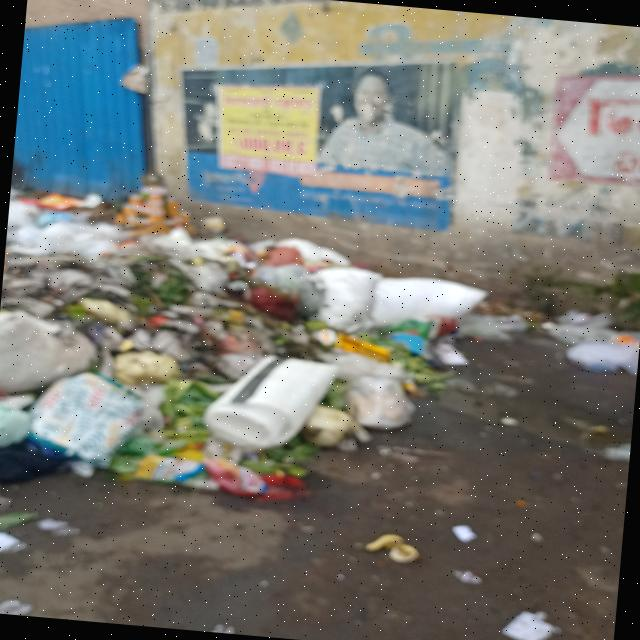garbage: (0, 199, 477, 506)
